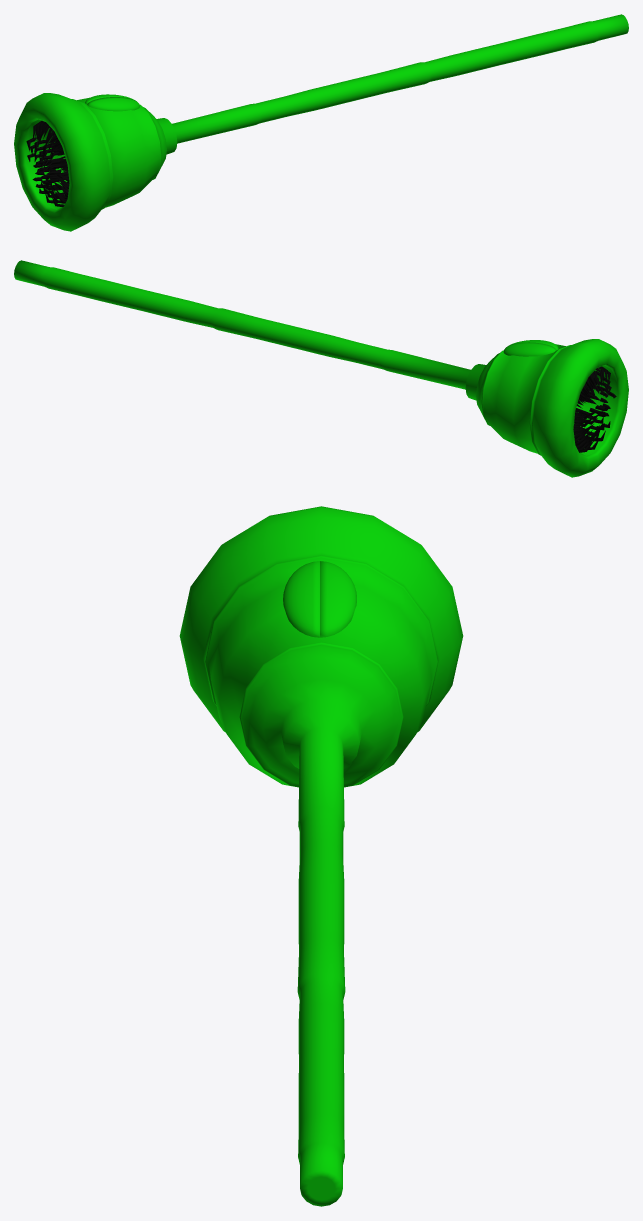
File: Bell Enemy.fbx
The picture shows the model from 3 angles, top to bottom: view 1: azimuth 30°, elevation 25°; view 2: azimuth 150°, elevation 25°; view 3: azimuth 270°, elevation 25°; orthographic projection. The views are drawn at different scales.
Visible parts, largest first — view 1: Bell, Teeth New, Eye; view 2: Bell, Teeth New, Eye; view 3: Bell, Eye.
Part boxes in pixels (<box>): Bell: <box>14,14,628,231</box>; Teeth New: <box>26,120,69,206</box>; Eye: <box>85,94,139,111</box>; Bell: <box>14,260,628,477</box>; Teeth New: <box>573,366,616,452</box>; Eye: <box>503,340,558,356</box>; Bell: <box>179,506,463,1206</box>; Eye: <box>283,561,356,637</box>.
Bounding box in the file's own units: 1031 × 218 × 218.
